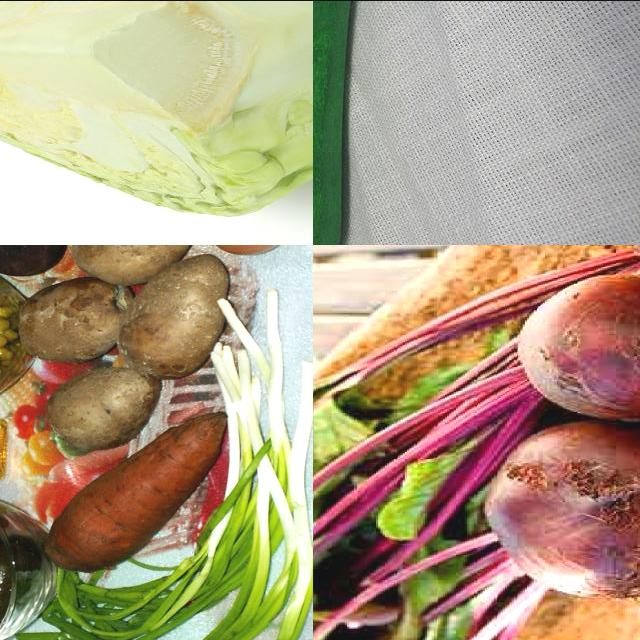beet: (483, 424, 640, 601), (523, 274, 640, 416)
cabbage: (1, 1, 314, 224)
carrot: (60, 425, 223, 568)
potato: (126, 267, 222, 378), (44, 377, 156, 460), (26, 284, 128, 358), (77, 245, 189, 281)
